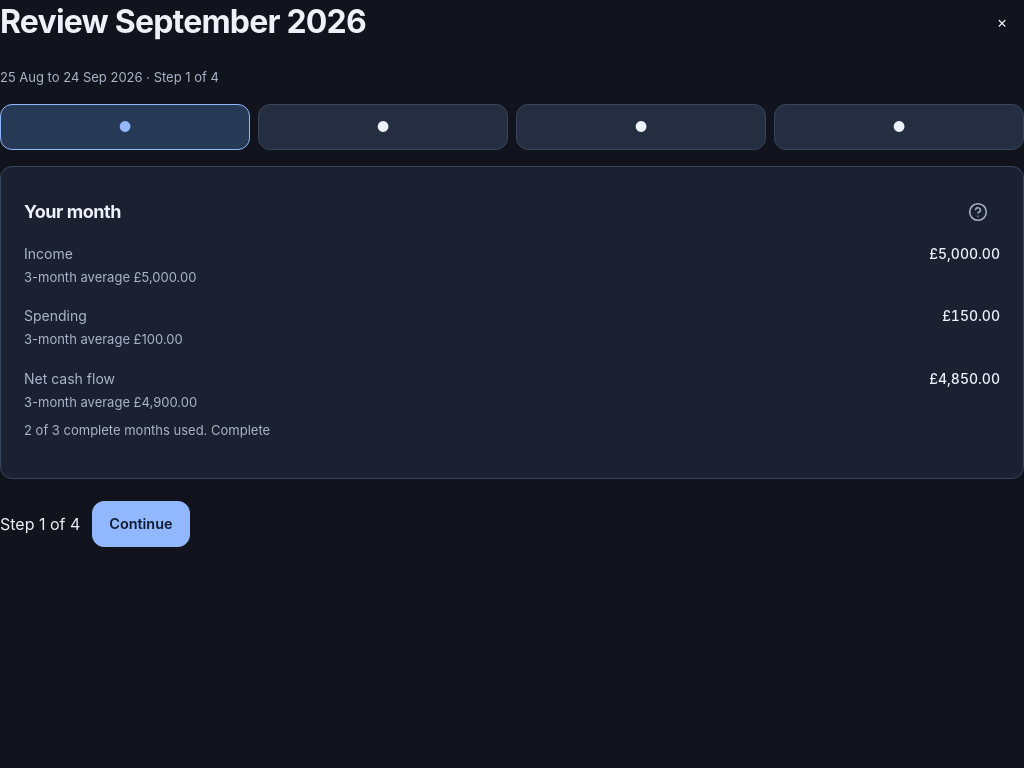
Test: distinguishes the period cutoff and suggested amount from an already confirmed contribution
Click the button named "3. Pots and goals" at (641, 126), box [516, 104, 766, 150]
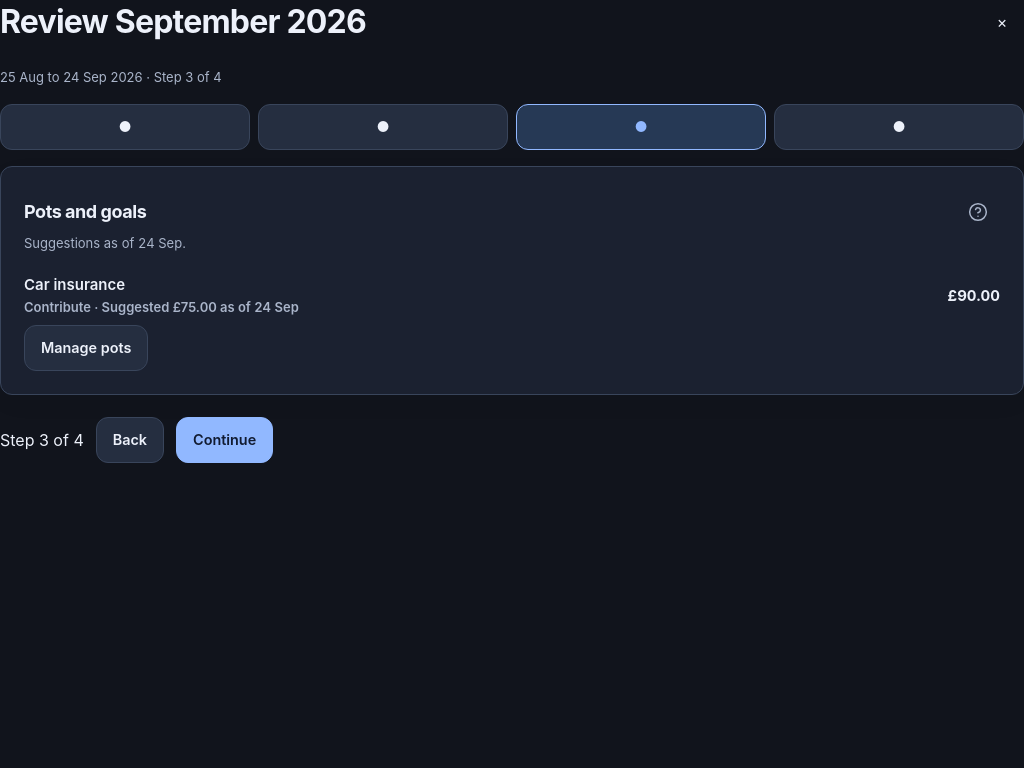
Click the button that starts with "Car insurance" at (75, 284), box [24, 267, 1000, 325]
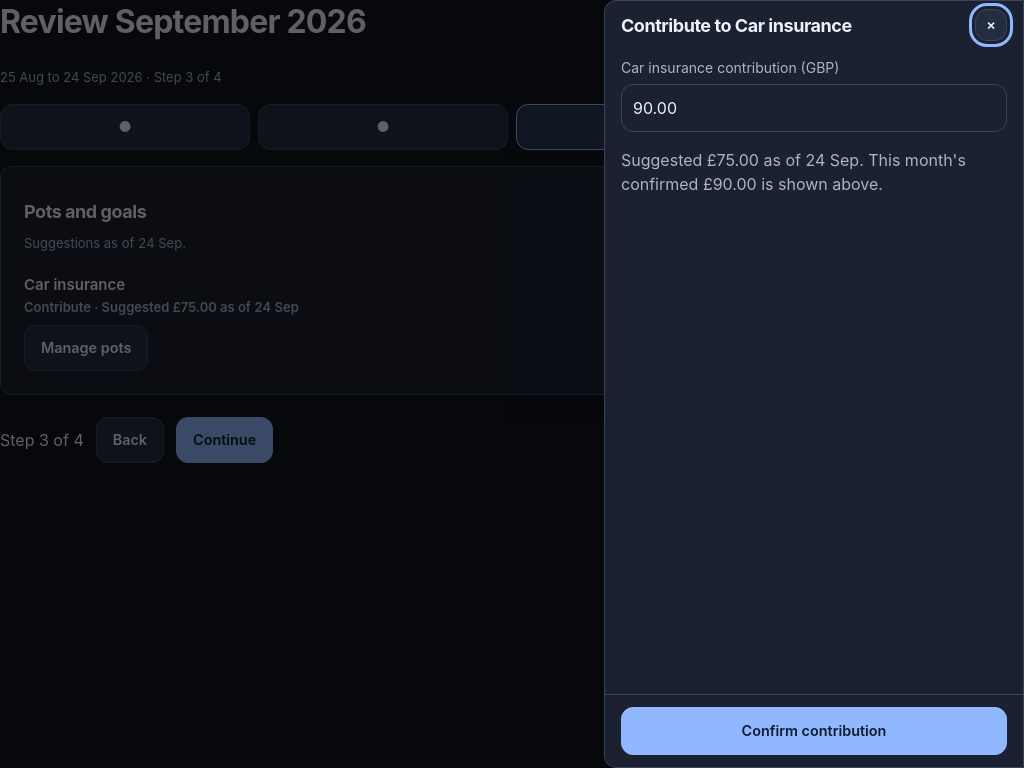
Result: the field labelled "Car insurance contribution (GBP)" holds "90.00" at [621, 84, 1007, 132]
Result: the text "This month's confirmed £90.00 is shown above" is shown at [621, 150, 966, 194]
Click the button named "Close Contribute to Car insurance" at (991, 25), box [975, 9, 1007, 41]
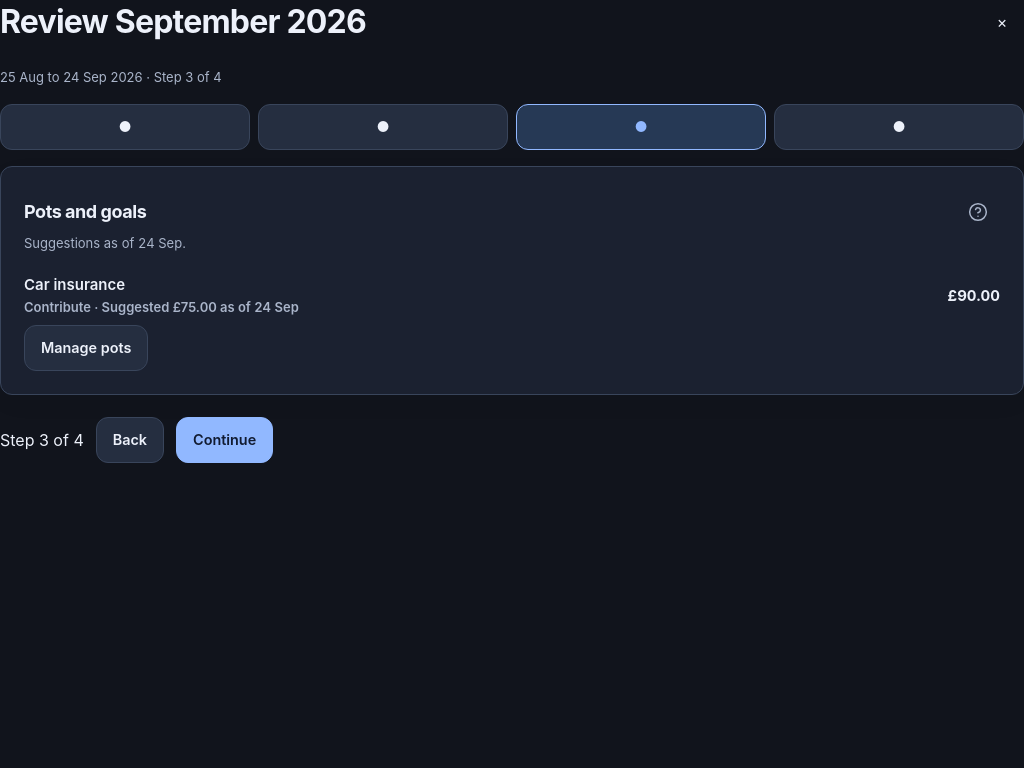
Click the button named "About review pot suggestions" at (978, 212), box [956, 190, 1000, 234]
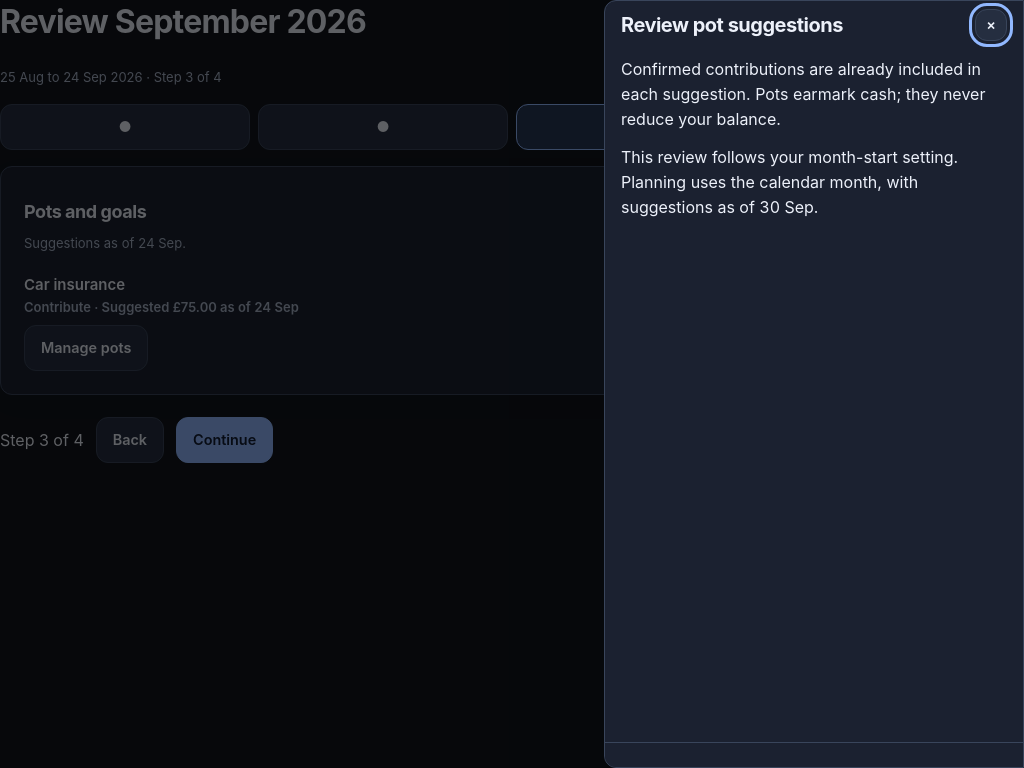
Result: the text "calendar month, with suggestions as of" shows "calendar month, with suggestions as of 30 Sep" at [621, 145, 1007, 220]
